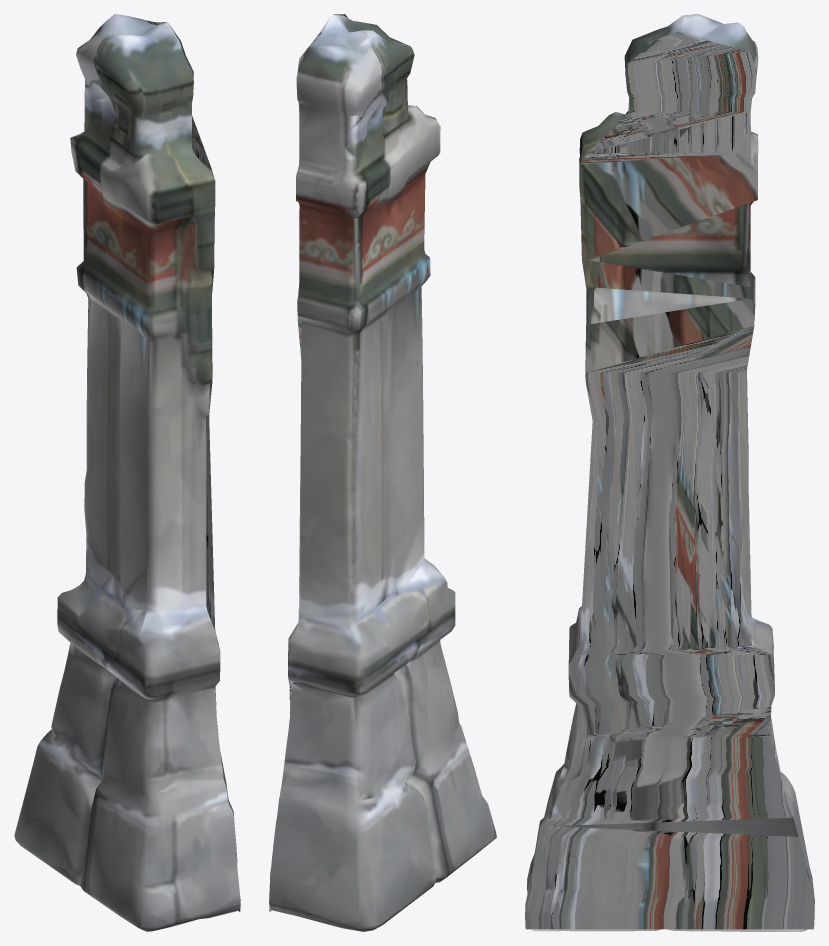
Rendered from SM_Tripo_FrostRampartEndL.glb.
3 views of the same model, side by side, from view 1: azimuth 30°, elevation 25°; view 2: azimuth 150°, elevation 25°; view 3: azimuth 270°, elevation 25° (orthographic). The views are drawn at different scales.
Parts seen in each view (by area): view 1: SM_Tripo_FrostRampartEndL_LOD0; view 2: SM_Tripo_FrostRampartEndL_LOD0; view 3: SM_Tripo_FrostRampartEndL_LOD0.
Part boxes in pixels (box(x1,y1,x2,y2)): SM_Tripo_FrostRampartEndL_LOD0: box(14, 14, 240, 931); SM_Tripo_FrostRampartEndL_LOD0: box(269, 14, 496, 931); SM_Tripo_FrostRampartEndL_LOD0: box(525, 14, 814, 931).
Bounding box in the file's own units: 1.1 × 8.79 × 2.56.
Materials: 1 (1 with a texture image).
